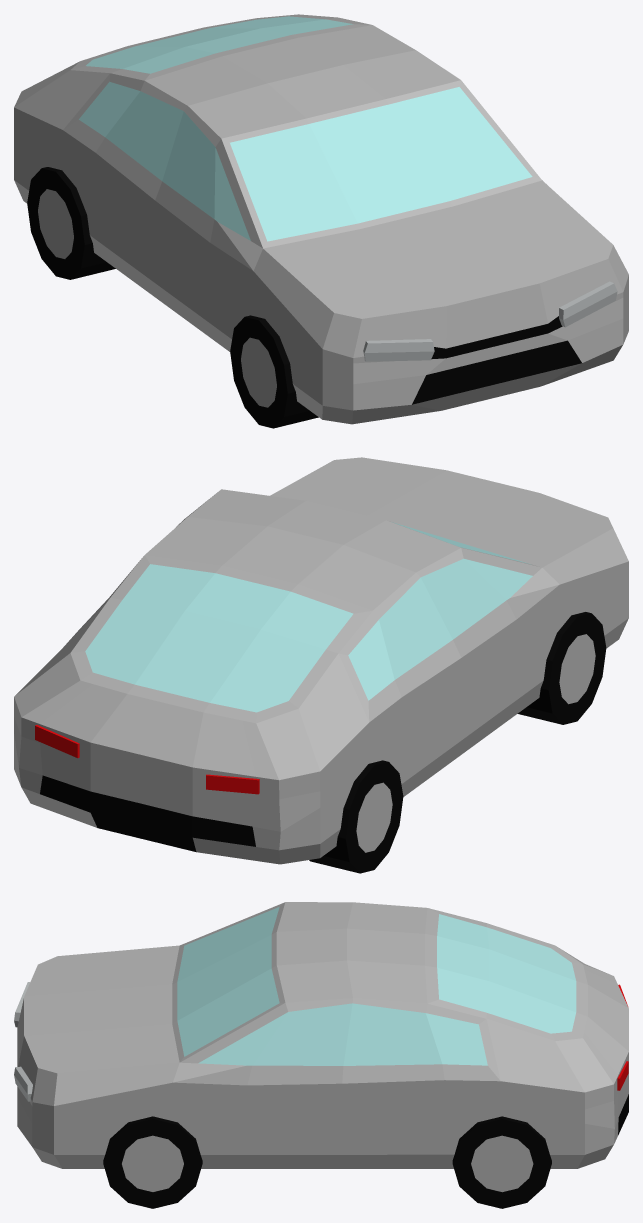
The model's file is medium.fbx.
3 renders of one model, top to bottom at view 1: azimuth 30°, elevation 25°; view 2: azimuth 150°, elevation 25°; view 3: azimuth 270°, elevation 25°, orthographic. The views are drawn at different scales.
Visible parts, largest first — view 1: Cube, Cylinder, Cube.001; view 2: Cube, Cylinder, Cube.001; view 3: Cube, Cylinder, Cube.001.
Part boxes in pixels (<box>): Cube: <box>14,14,628,424</box>; Cylinder: <box>27,167,318,428</box>; Cube.001: <box>363,281,617,361</box>; Cube: <box>14,457,628,864</box>; Cylinder: <box>309,612,606,873</box>; Cube.001: <box>35,725,259,794</box>; Cube: <box>17,902,628,1168</box>; Cylinder: <box>103,1116,551,1208</box>; Cube.001: <box>14,982,628,1101</box>.
Size of the model in its own units: 76.49 by 52.65 by 149.
